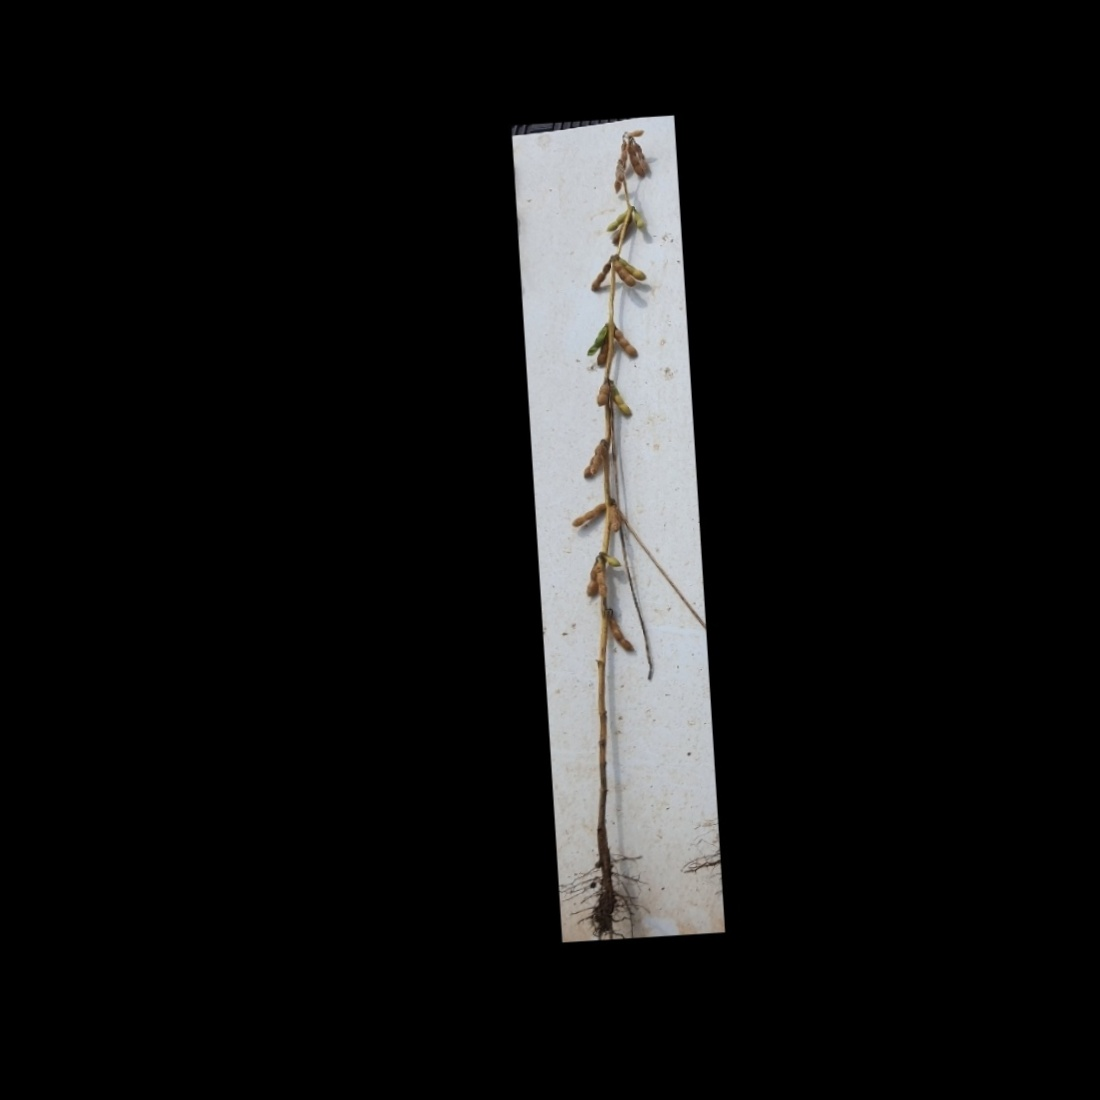pod: (569, 498, 609, 529), (605, 610, 634, 654), (608, 384, 635, 419), (586, 259, 613, 292), (610, 325, 637, 358), (605, 500, 621, 533), (593, 380, 611, 407), (599, 550, 623, 570), (633, 208, 648, 232), (625, 127, 646, 139)
soy: (530, 118, 708, 929)
